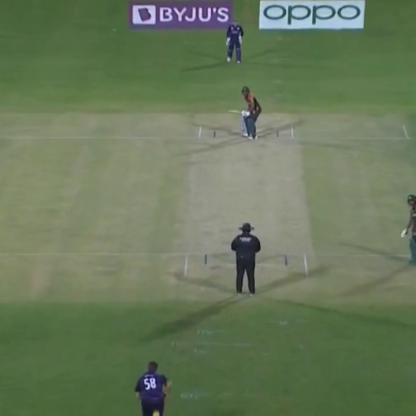bat: (220, 104, 250, 116)
pitch: (178, 127, 302, 284)
